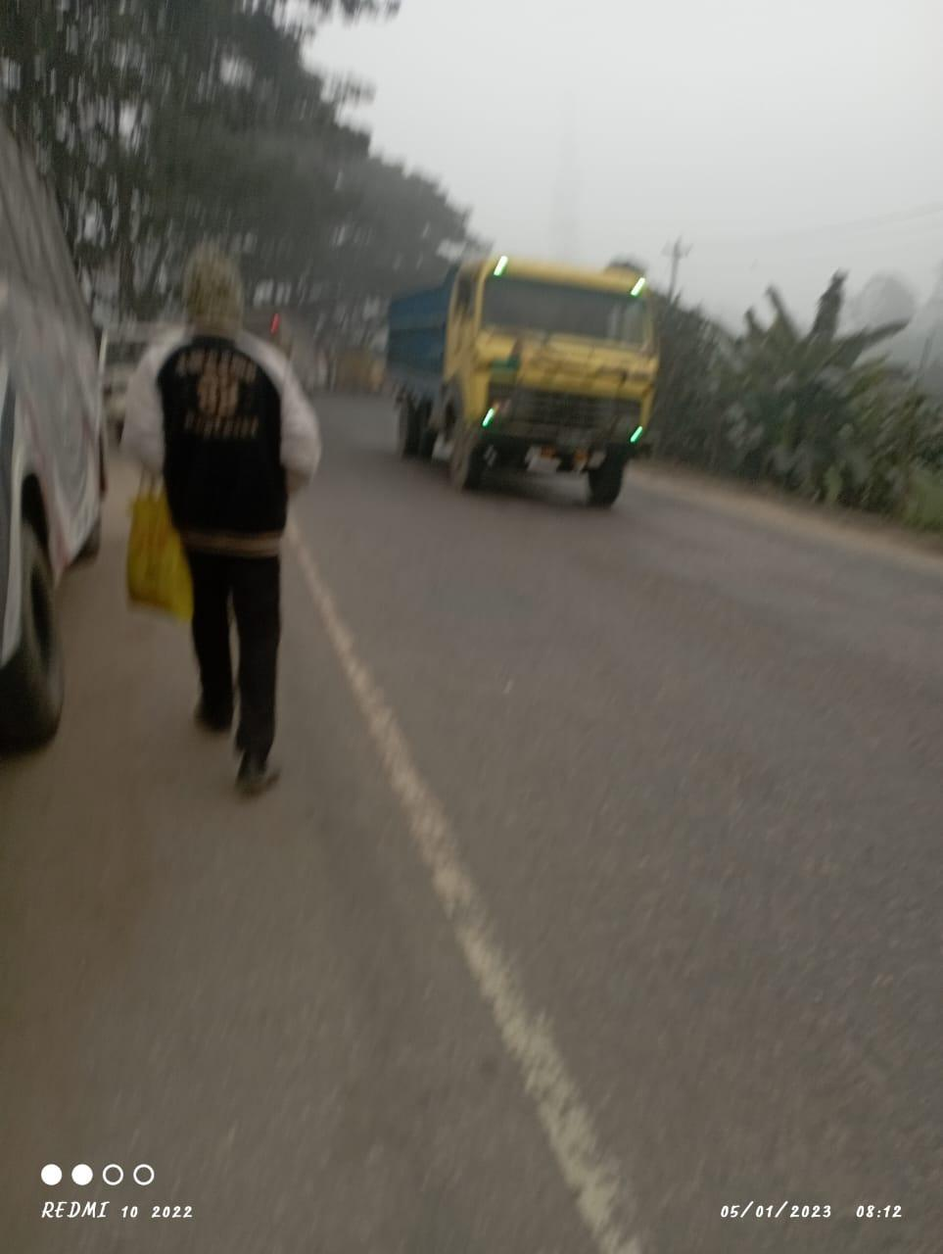Truck: (369, 239, 706, 532)
